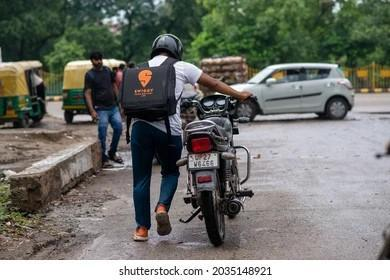MotorCycle: (178, 97, 257, 246)
